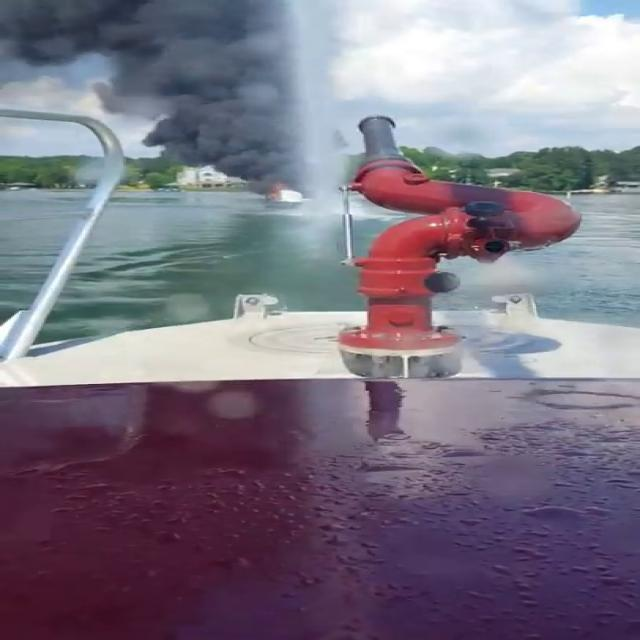Smoke: (0, 0, 349, 181)
